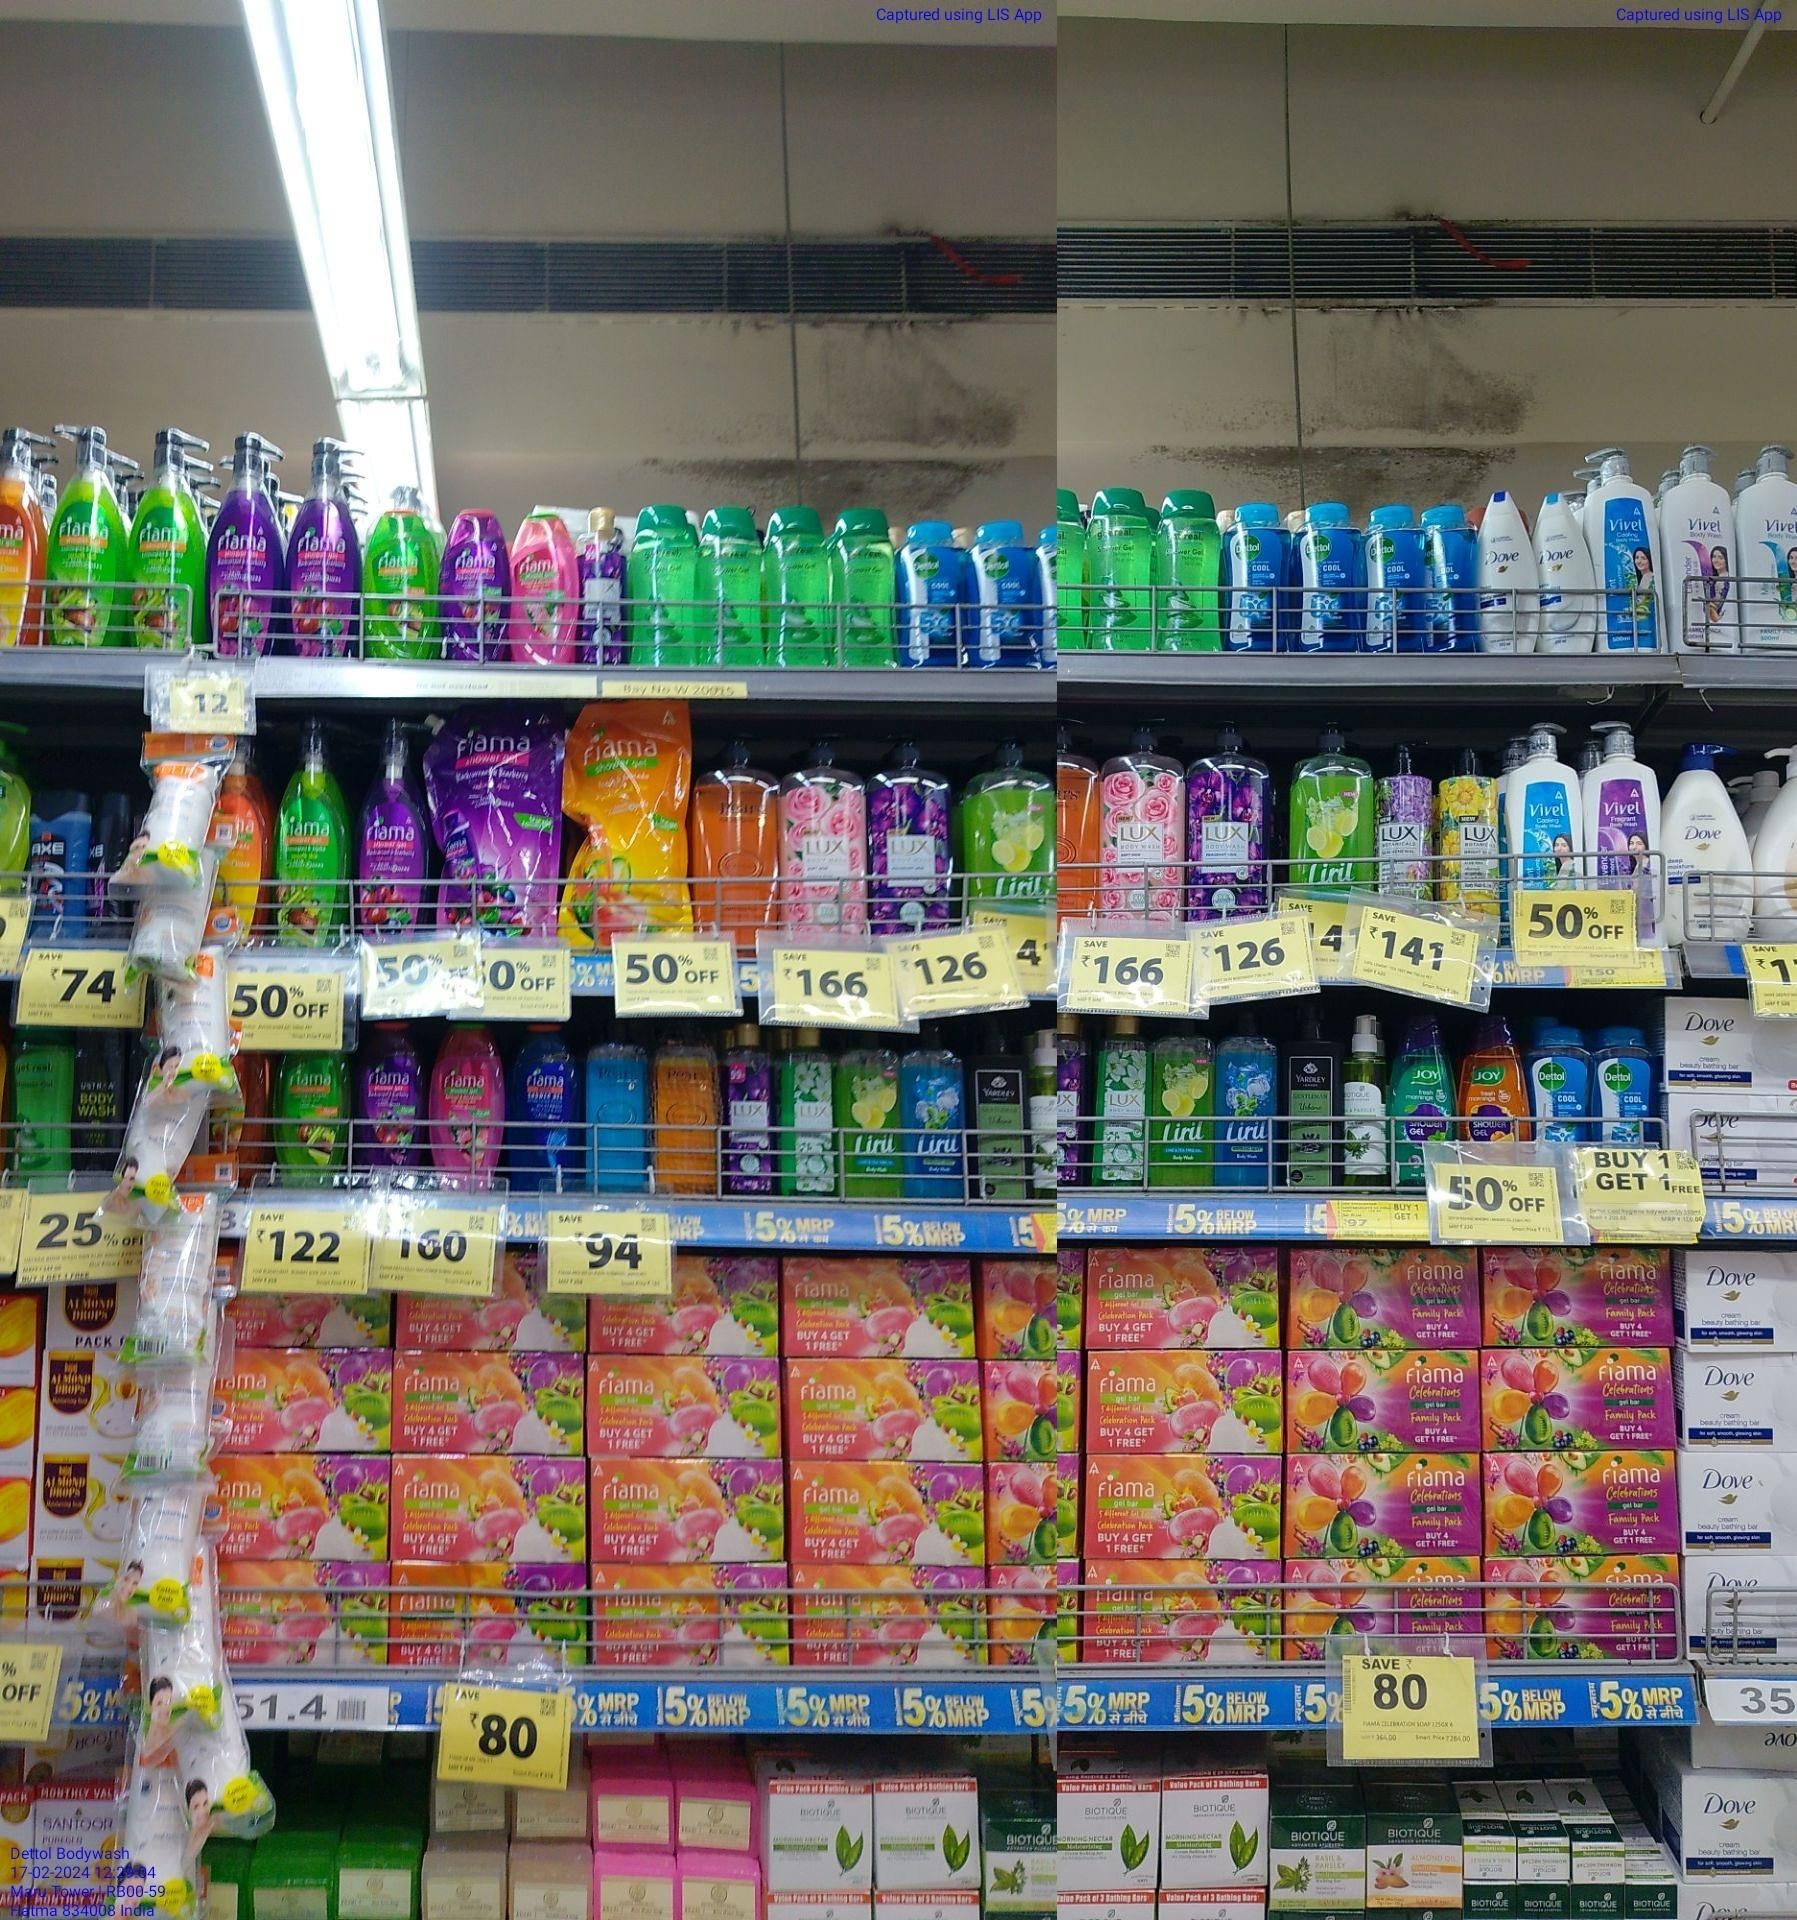Dettol_Bodywash_Cool: (895, 517, 966, 669), (1219, 505, 1290, 650), (968, 517, 1037, 664), (1294, 503, 1360, 652), (1363, 503, 1427, 648), (1530, 1023, 1594, 1142), (1599, 1020, 1657, 1147)
Fiama_Shower_Gel_Lemongrass_and_Jojoba_250ML: (366, 513, 434, 660), (274, 1052, 351, 1177)
Fiama_Shower_Gel_Patchouli_and_Macadamia_250ML: (431, 1020, 503, 1175), (513, 513, 573, 665)
Joy_Shower_Gel_Mandarin_and_Lemongrass_250ML: (1456, 1012, 1528, 1142)
Joy_Shower_Gel_Mint_and_Eucalyptus_250ML: (1393, 1013, 1442, 1187)
Liril_Cooling_Mint_Body_Wash_250ML: (905, 1027, 968, 1199), (1221, 1006, 1279, 1187)
Liril_Lime_and_Tea_Tree_Oil_Body_Wash_250ML: (1152, 1017, 1216, 1187), (843, 1032, 902, 1199)
Lux_Black_Orchid_Scent_and_Juniper_Oil_Body_Wash_245ML: (721, 1017, 775, 1197), (574, 507, 632, 664)
Lux_Body_Wash_Skin_Detox_Freesia_Scent_and_Alove_Vera_245ML: (780, 1018, 839, 1196), (1094, 1012, 1147, 1187)
Pears_Pure_Glycerin_and_Mint_Extracts_Body_Wash_250ML: (586, 1013, 649, 1191)
